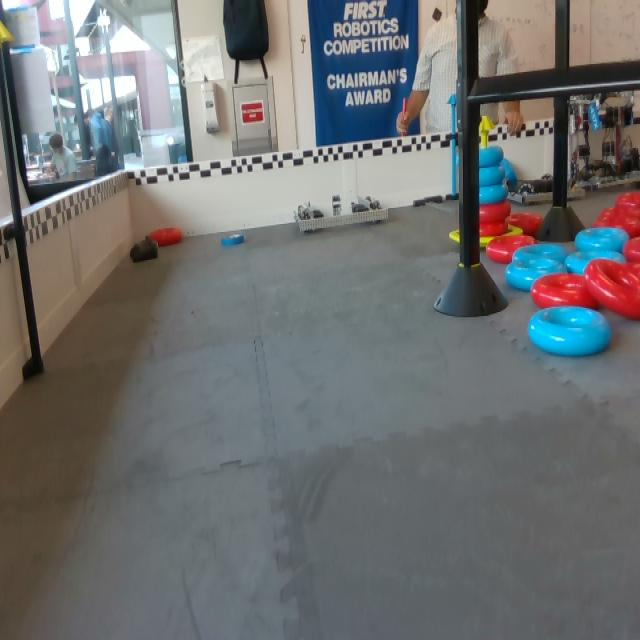Blue-Ring: (528, 307, 611, 358), (506, 257, 568, 291), (566, 250, 627, 274), (576, 228, 630, 253), (510, 245, 570, 263), (479, 164, 506, 186), (478, 146, 505, 168), (480, 183, 509, 203), (219, 230, 247, 250), (502, 159, 518, 192)
Red-Ring: (584, 259, 639, 320), (530, 273, 600, 308), (486, 234, 539, 264), (607, 215, 639, 240), (148, 225, 182, 247), (479, 199, 511, 222), (615, 190, 639, 220), (509, 213, 542, 233), (479, 219, 508, 238), (623, 237, 639, 266)
Yellow-Stake-Head: (0, 20, 15, 42), (480, 116, 496, 130)
zblue-Stake-Head: (446, 94, 456, 105)
